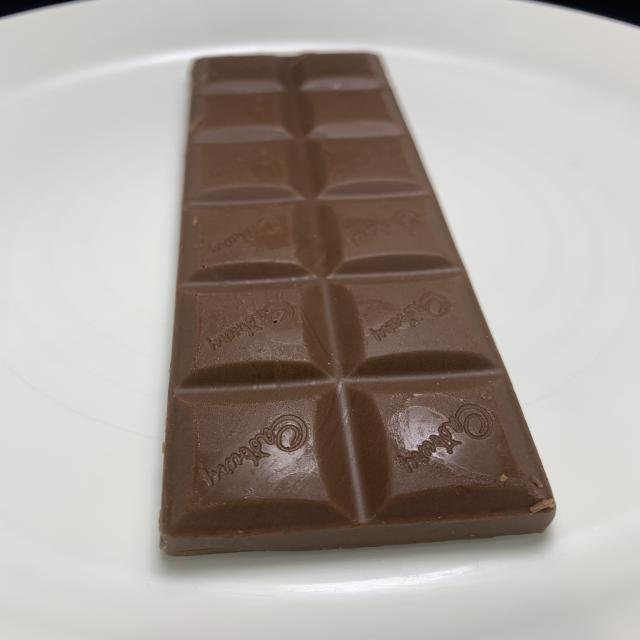chocolate: (163, 48, 554, 560)
